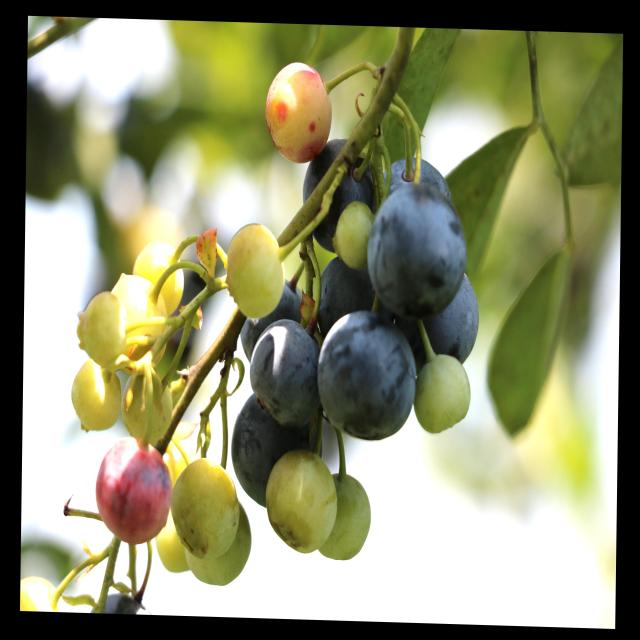blueberry: (315, 304, 420, 444), (369, 183, 469, 320), (227, 387, 320, 504), (247, 309, 320, 425), (423, 265, 484, 367), (306, 252, 371, 336)
blueberry-halfripe: (94, 434, 172, 544), (264, 57, 335, 169)
blueberry-unripe: (264, 448, 338, 555), (171, 458, 237, 558), (108, 267, 170, 373), (230, 220, 286, 319), (185, 507, 256, 584), (318, 468, 374, 562), (411, 352, 473, 435), (69, 355, 124, 438), (133, 236, 190, 312), (122, 366, 178, 441), (76, 286, 126, 367), (334, 200, 374, 264)
